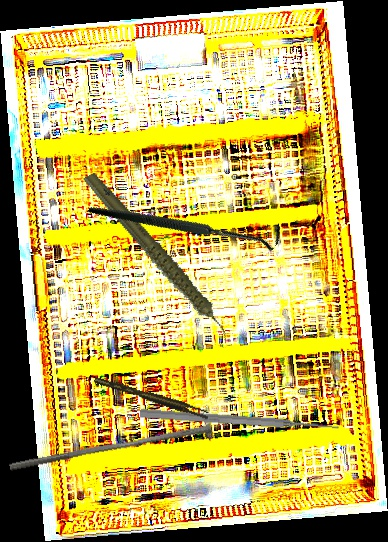Handpiece: (80, 151, 233, 366)
Hook Surgical: (87, 127, 287, 316)
Pusher: (8, 417, 212, 479), (139, 407, 340, 434)
Tissue Forceps: (93, 370, 211, 424)
